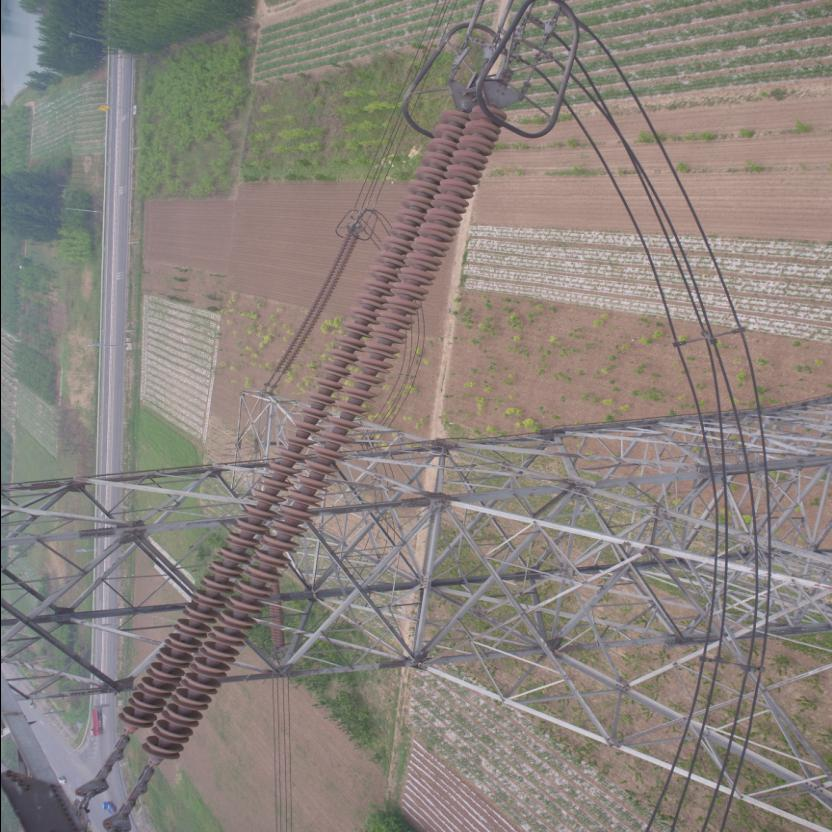insulator: (110, 94, 512, 778), (270, 229, 360, 382)
